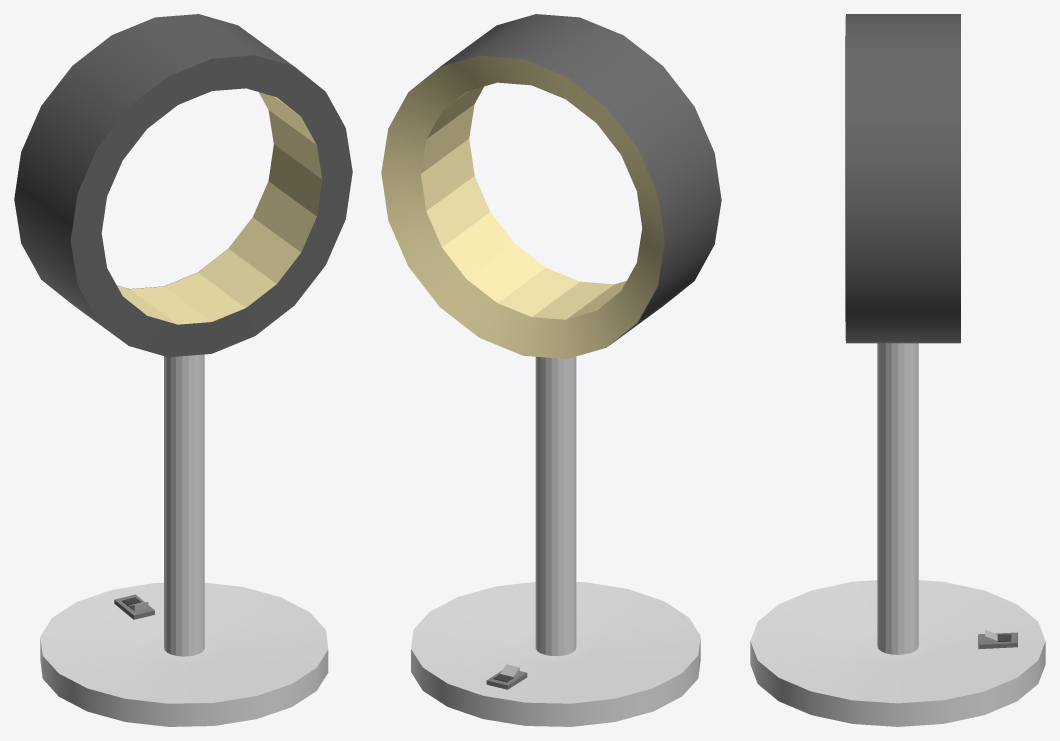
The model's file is SM_RingLight.fbx.
3 renders of one model, left to right at view 1: azimuth 30°, elevation 25°; view 2: azimuth 150°, elevation 25°; view 3: azimuth 270°, elevation 25°, orthographic.
Parts seen in each view (by area): view 1: pCube2; view 2: pCube2; view 3: pCube2.
Part boxes in pixels (x1=…): pCube2: x1=14, y1=14, x2=352, y2=726; pCube2: x1=381, y1=14, x2=721, y2=726; pCube2: x1=750, y1=14, x2=1045, y2=726.
Size of the model in its own units: 111 by 235 by 98.5.
